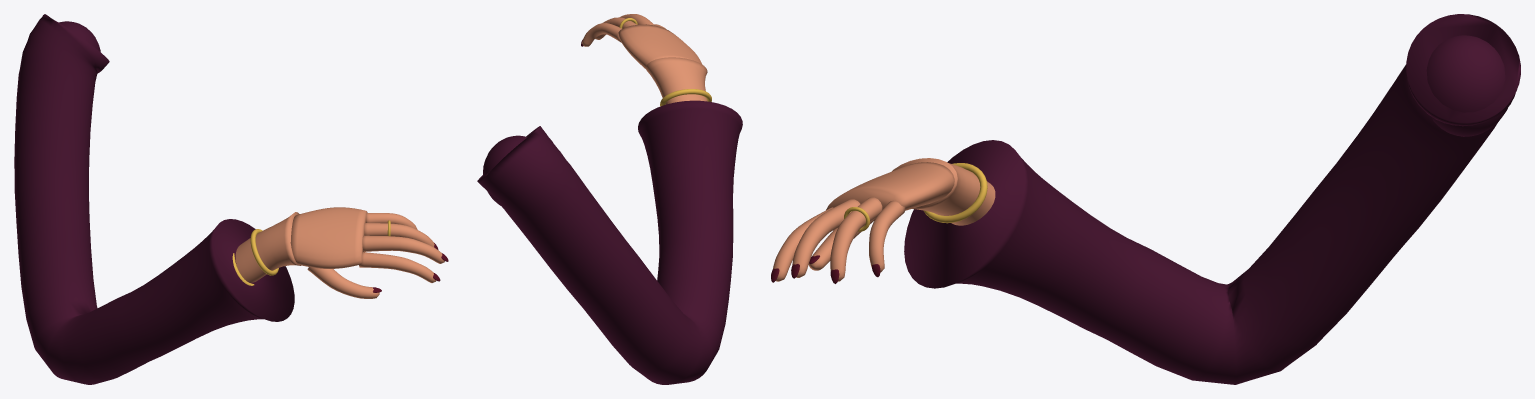
File: char_hr_veronika_arm_r.glb
The picture shows the model from 3 angles, left to right: view 1: azimuth 30°, elevation 25°; view 2: azimuth 150°, elevation 25°; view 3: azimuth 270°, elevation 25°; orthographic projection. The views are drawn at different scales.
Parts seen in each view (by area): view 1: char_hr_veronika_arm_r; view 2: char_hr_veronika_arm_r; view 3: char_hr_veronika_arm_r.
Part boxes in pixels (x1,y1,x2,y2): char_hr_veronika_arm_r: (14, 14, 448, 384); char_hr_veronika_arm_r: (477, 14, 742, 384); char_hr_veronika_arm_r: (771, 14, 1520, 384).
Size of the model in its own units: 0.2221 by 0.2406 by 0.4027.
5 materials, 1 textured.
